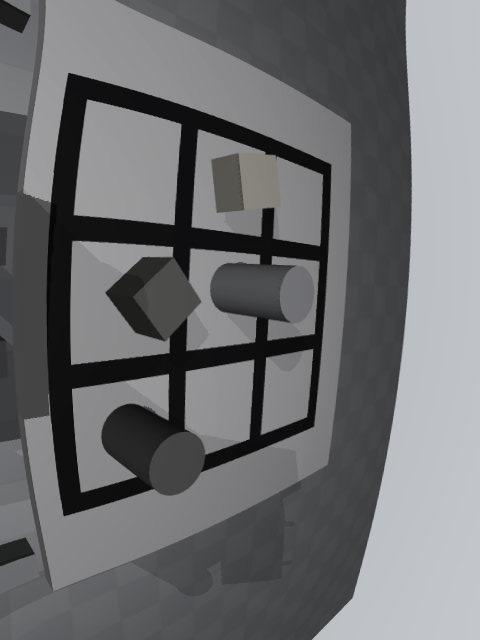can: (210, 263, 314, 323)
cube: (105, 257, 201, 341)
cylinder: (101, 403, 205, 496)
foam: (211, 153, 281, 213)
